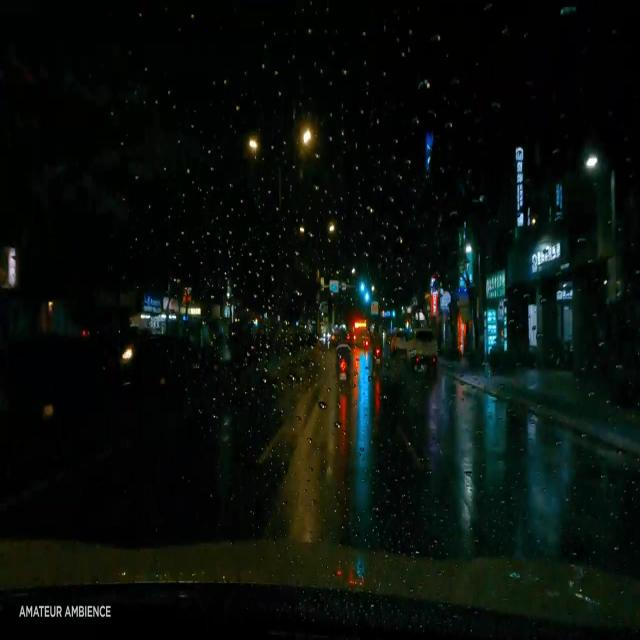Car: (402, 327, 435, 369)
